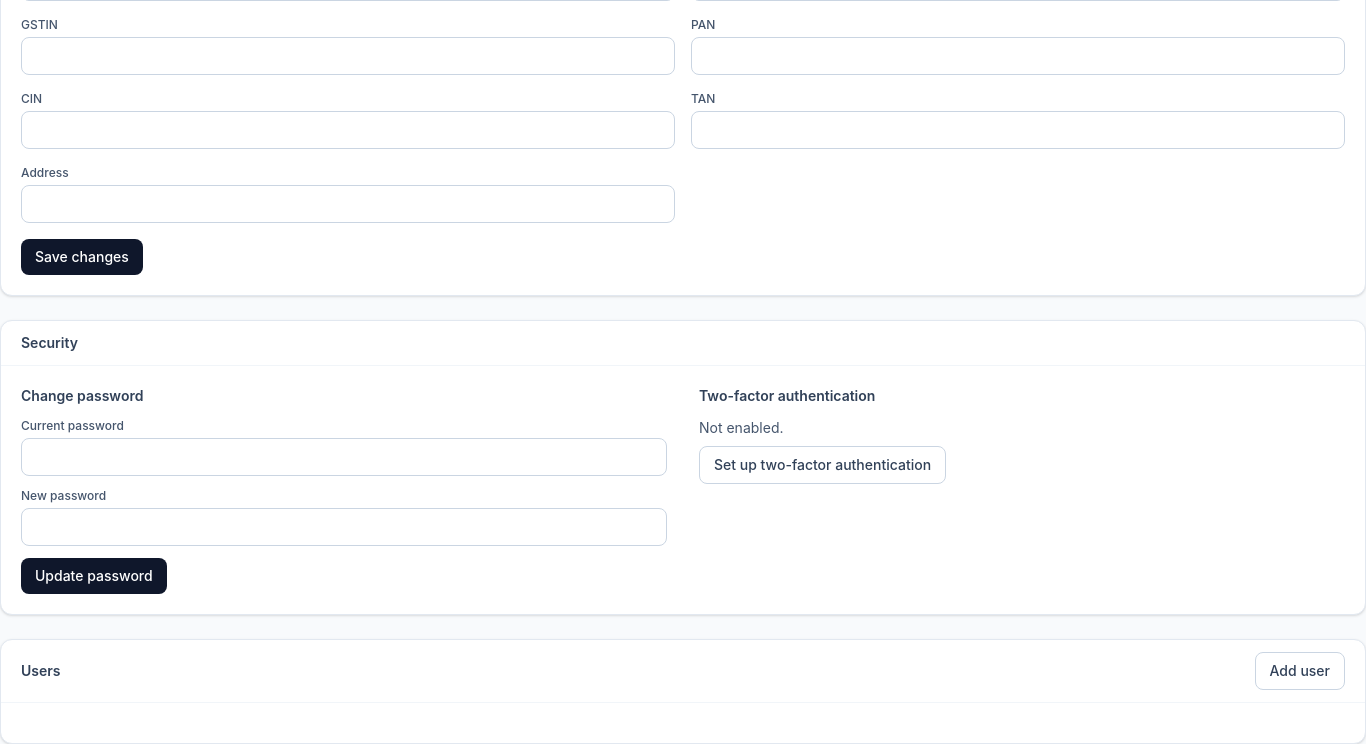
Test case: SettingsPage › SecurityCard — password › changes the password and clears the fields
(page scrolled)
Type "old-pw-12345" into the password field labelled "Current password" at (344, 457), box [21,438,667,476]
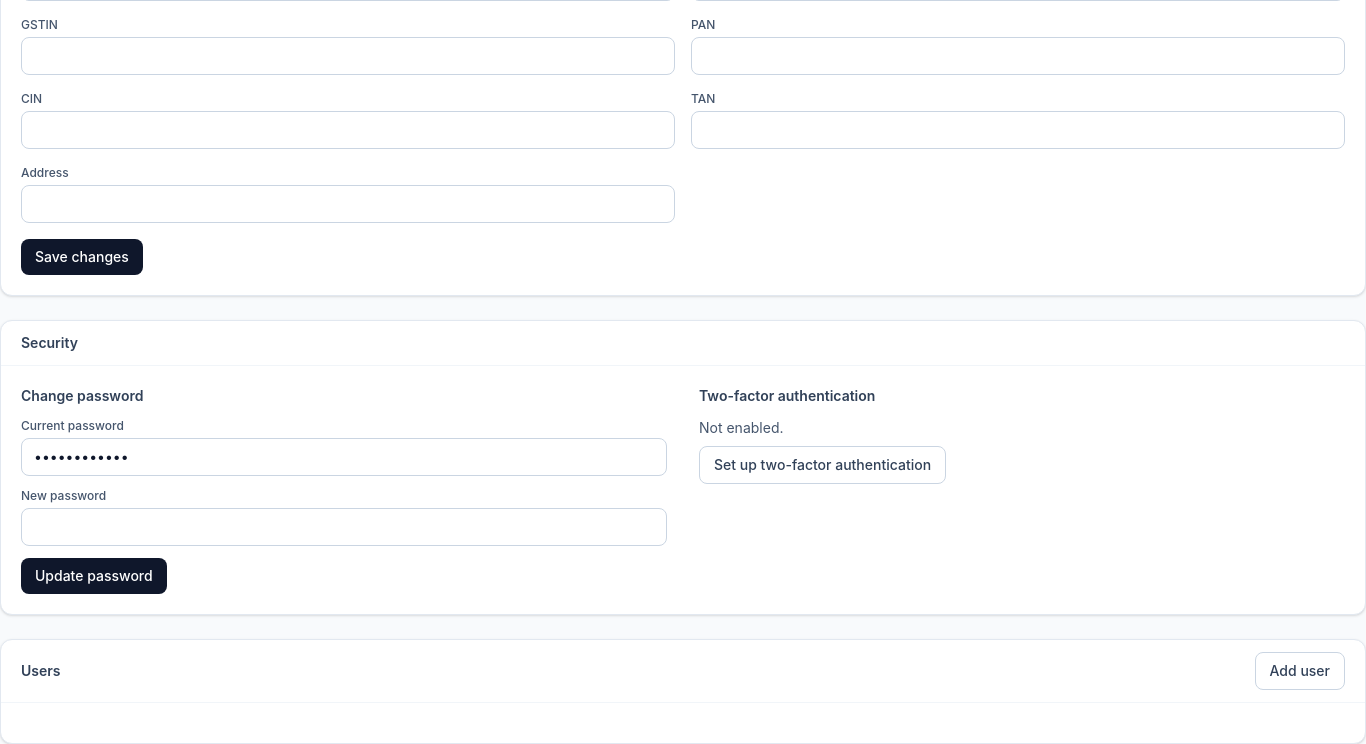
Type "new-pw-67890" into the password field labelled "New password" at (344, 527), box [21,508,667,546]
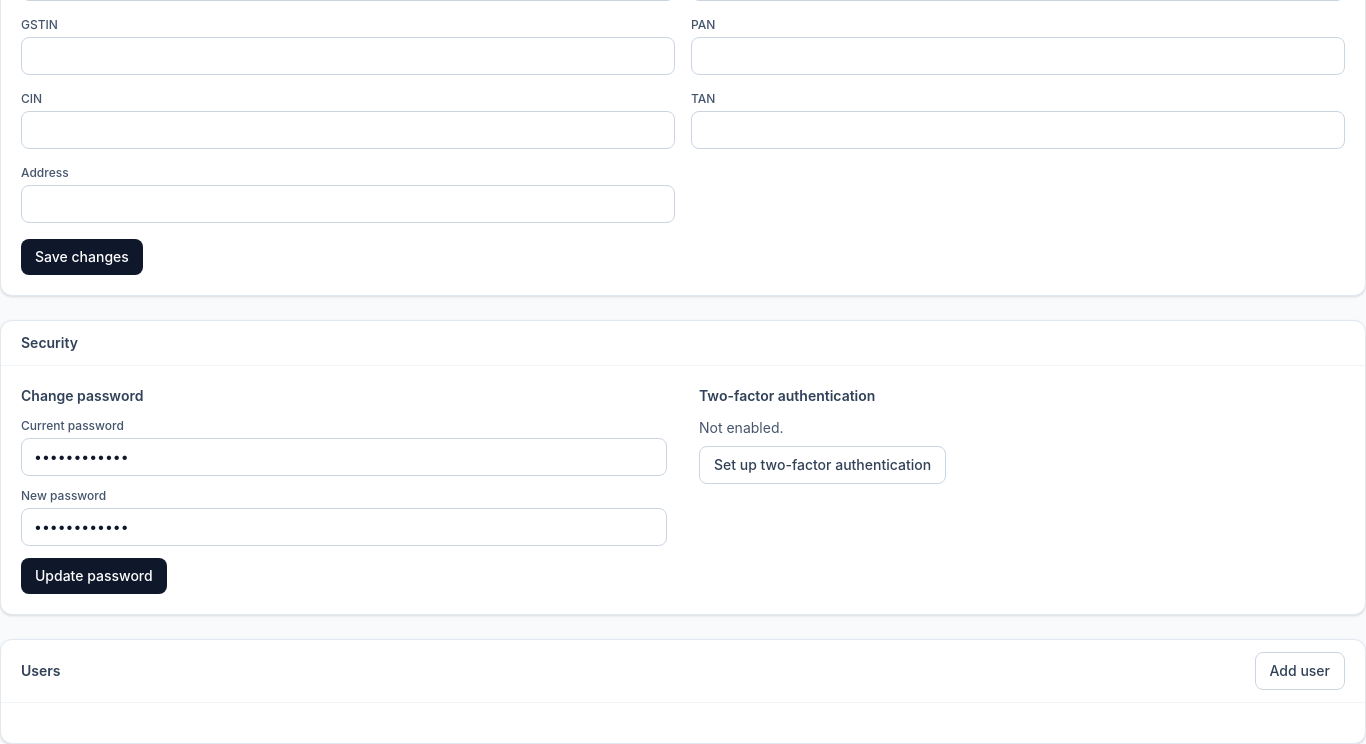
Click the button "Update password" at (94, 576), box [21,558,167,594]
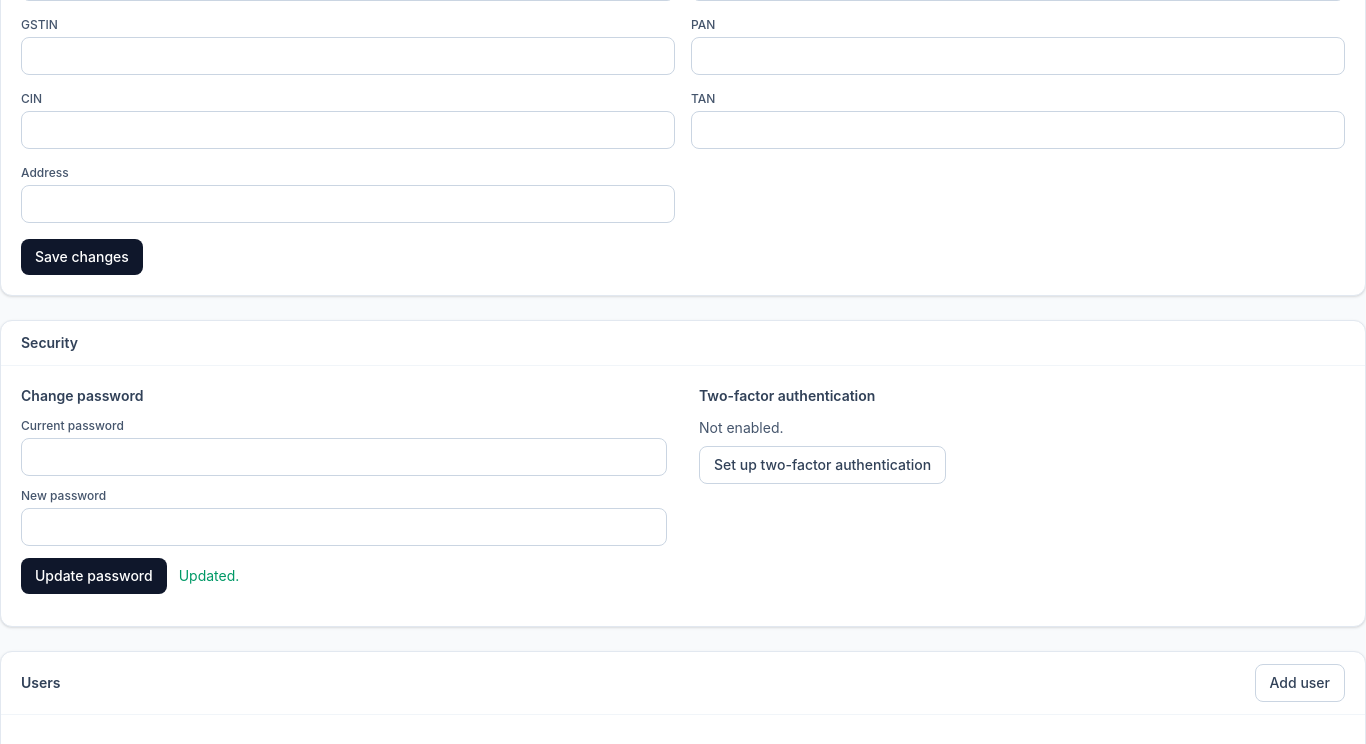
Check: the text "Updated." is shown, box [179,567,239,584]
Check: the password field labelled "Current password" is empty, box [21,438,667,476]
Check: the password field labelled "New password" is empty, box [21,508,667,546]
